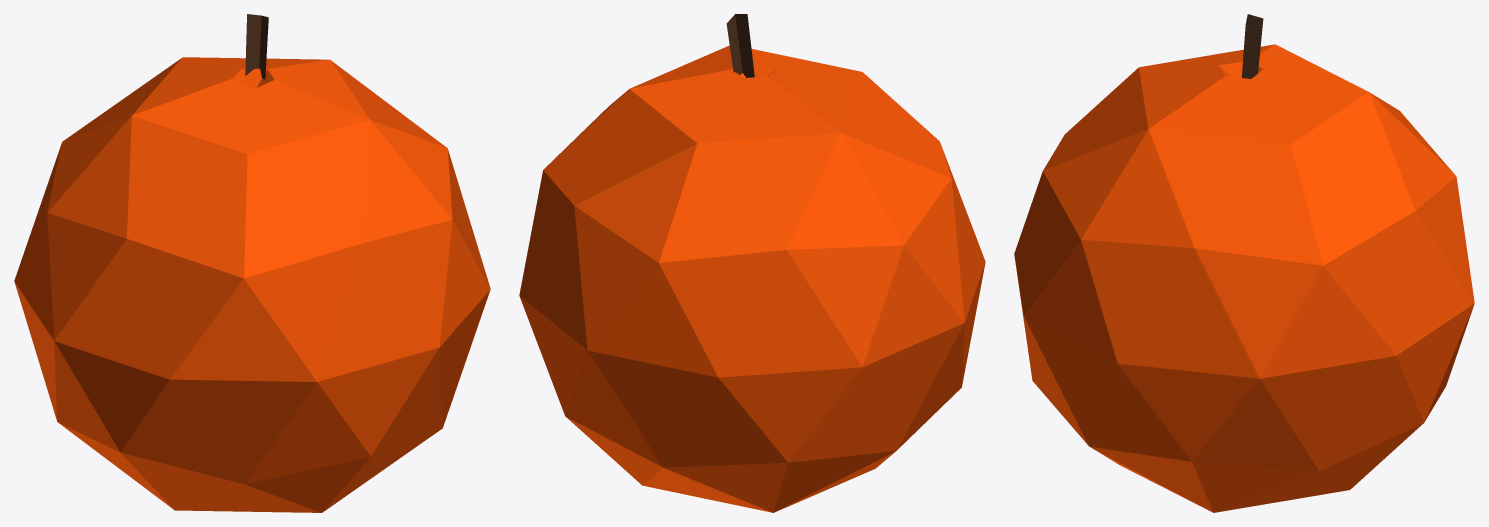
The model's file is orange.gltf.
The picture shows the model from 3 angles, left to right: view 1: azimuth 30°, elevation 25°; view 2: azimuth 150°, elevation 25°; view 3: azimuth 270°, elevation 25°; orthographic projection.
Visible parts, largest first — view 1: Icosphere; view 2: Icosphere; view 3: Icosphere.
Boxes of the visible parts, x1=… form: Icosphere: x1=14, y1=14, x2=490, y2=512; Icosphere: x1=519, y1=14, x2=985, y2=512; Icosphere: x1=1014, y1=14, x2=1474, y2=512.
Size of the model in its own units: 2.94 by 3.3 by 2.86.
